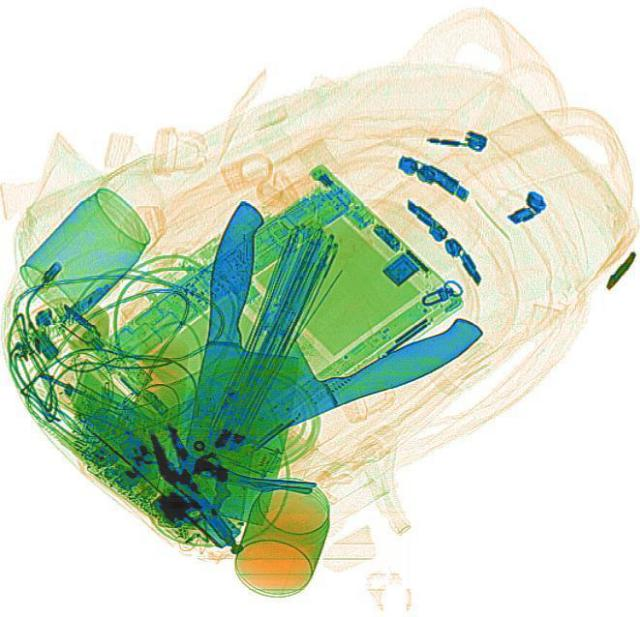Knife: (89, 259, 489, 502), (170, 197, 326, 524)
